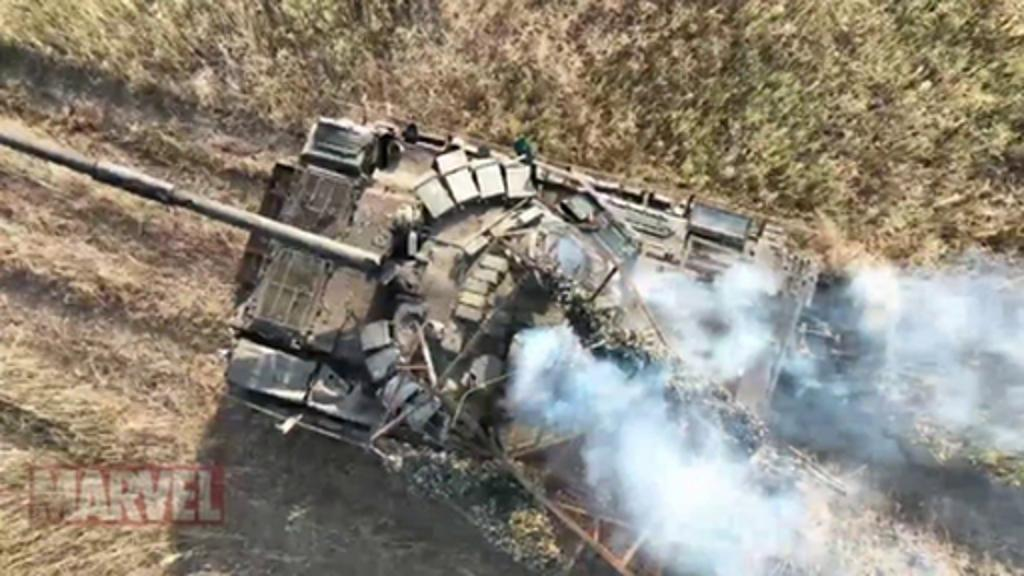TANK: (10, 88, 836, 554)
